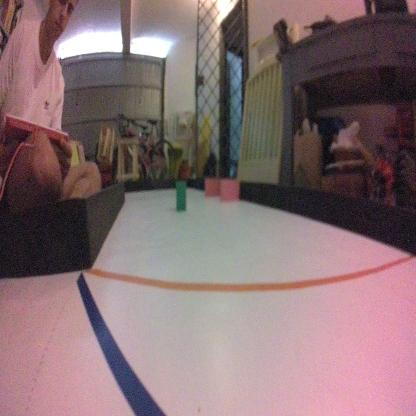green: (175, 179, 188, 214)
magenta: (219, 177, 240, 207), (206, 175, 220, 199)
